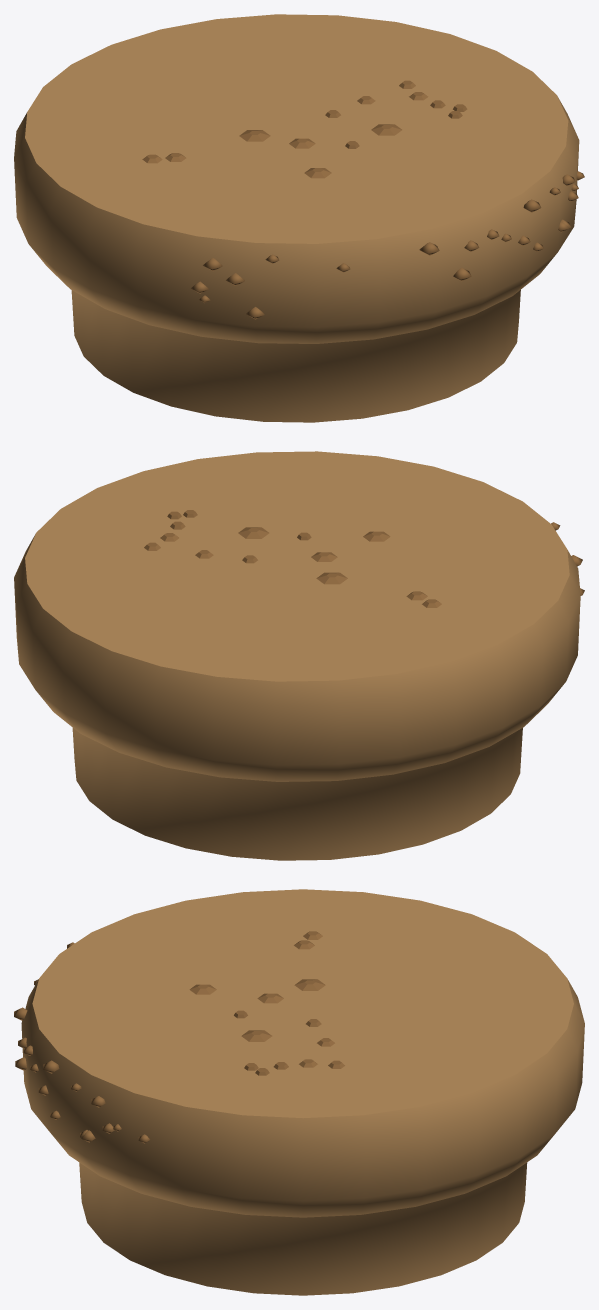
The model's file is jar_cork.glb.
The picture shows the model from 3 angles, top to bottom: view 1: azimuth 30°, elevation 25°; view 2: azimuth 150°, elevation 25°; view 3: azimuth 270°, elevation 25°; orthographic projection.
Parts seen in each view (by area): view 1: body, body_nl; view 2: body; view 3: body, body_nl.
Boxes of the visible parts, x1,y1,x2,y2 form: body: (14, 14, 579, 422); body_nl: (191, 171, 584, 319); body: (14, 451, 580, 860); body: (21, 889, 584, 1295); body_nl: (14, 942, 150, 1143).
Size of the model in its own units: 10.3 by 4.06 by 10.44.
